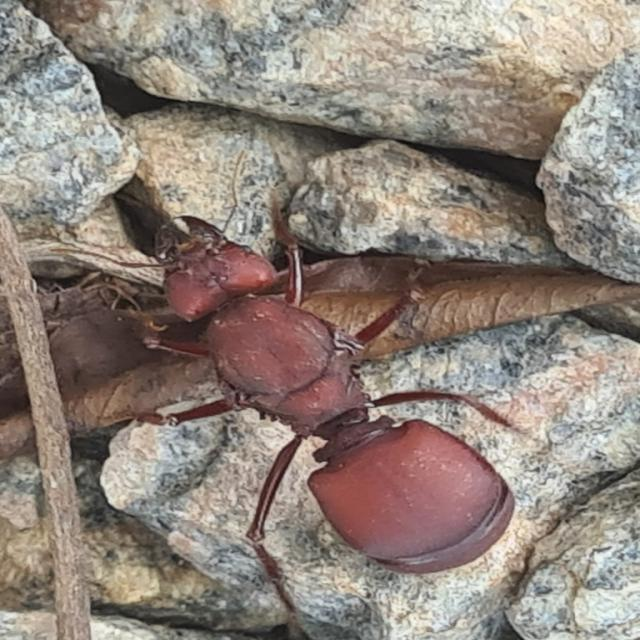Alive-Female-Dealate: (49, 149, 562, 640)
